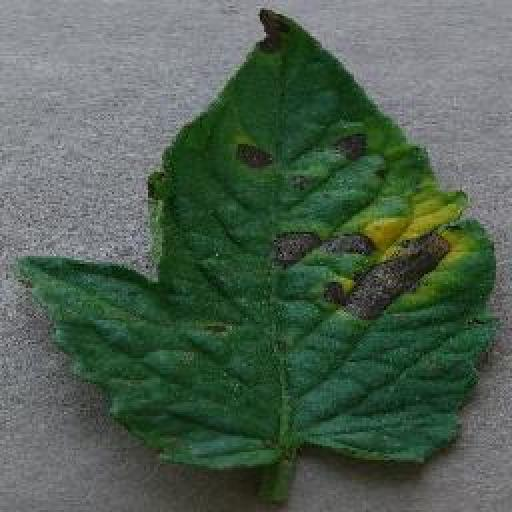Early Blight: (18, 8, 505, 472)
